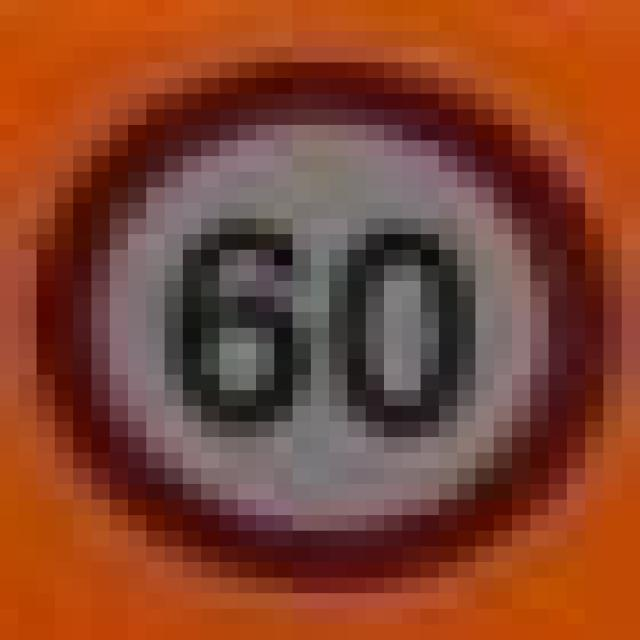Ograniczenie predkosci do 60: (18, 47, 585, 577)
